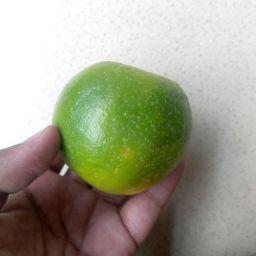Unripe: (55, 62, 191, 199)
